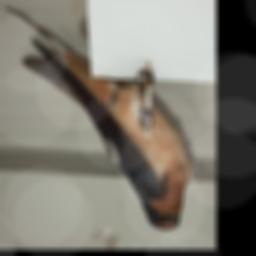Swallow: (1, 11, 187, 232)
